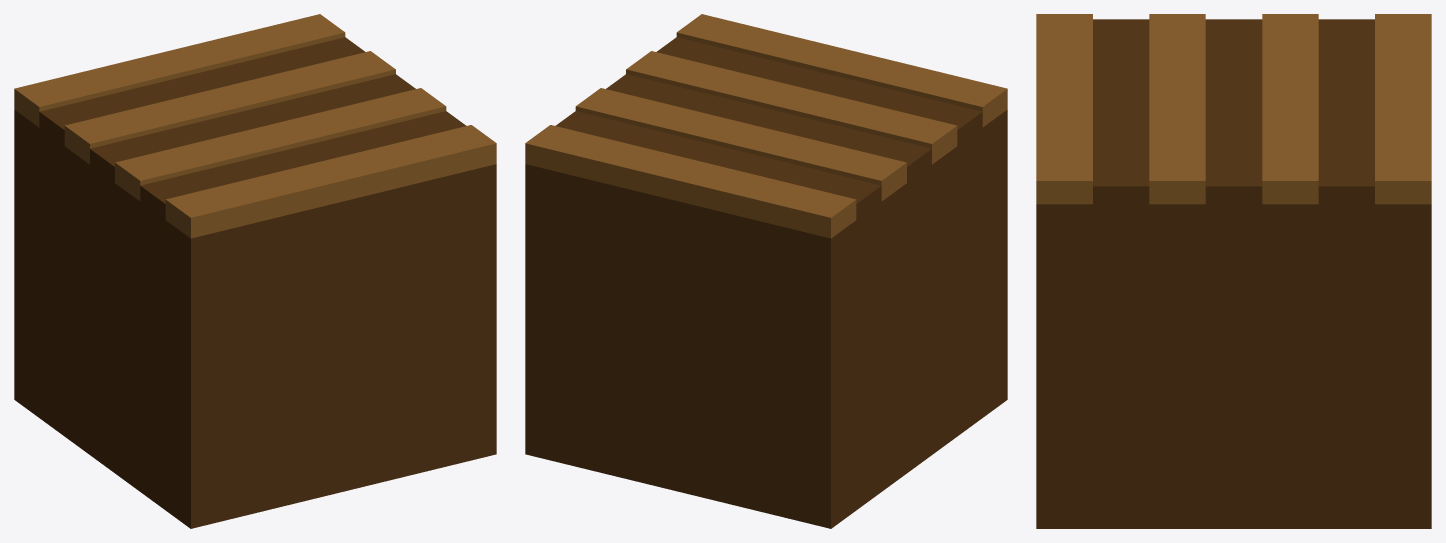
File: FarmFieldCube_01.fbx
3 views of the same model, side by side, from view 1: azimuth 30°, elevation 25°; view 2: azimuth 150°, elevation 25°; view 3: azimuth 270°, elevation 25° (orthographic). The views are drawn at different scales.
Parts seen in each view (by area): view 1: FarmFieldCube_01; view 2: FarmFieldCube_01; view 3: FarmFieldCube_01.
Boxes of the visible parts, x1,y1,x2,y2 form: FarmFieldCube_01: (14,14,496,528); FarmFieldCube_01: (525,14,1007,528); FarmFieldCube_01: (1036,14,1431,528).
Size of the model in its own units: 1 by 0.9716 by 1.
